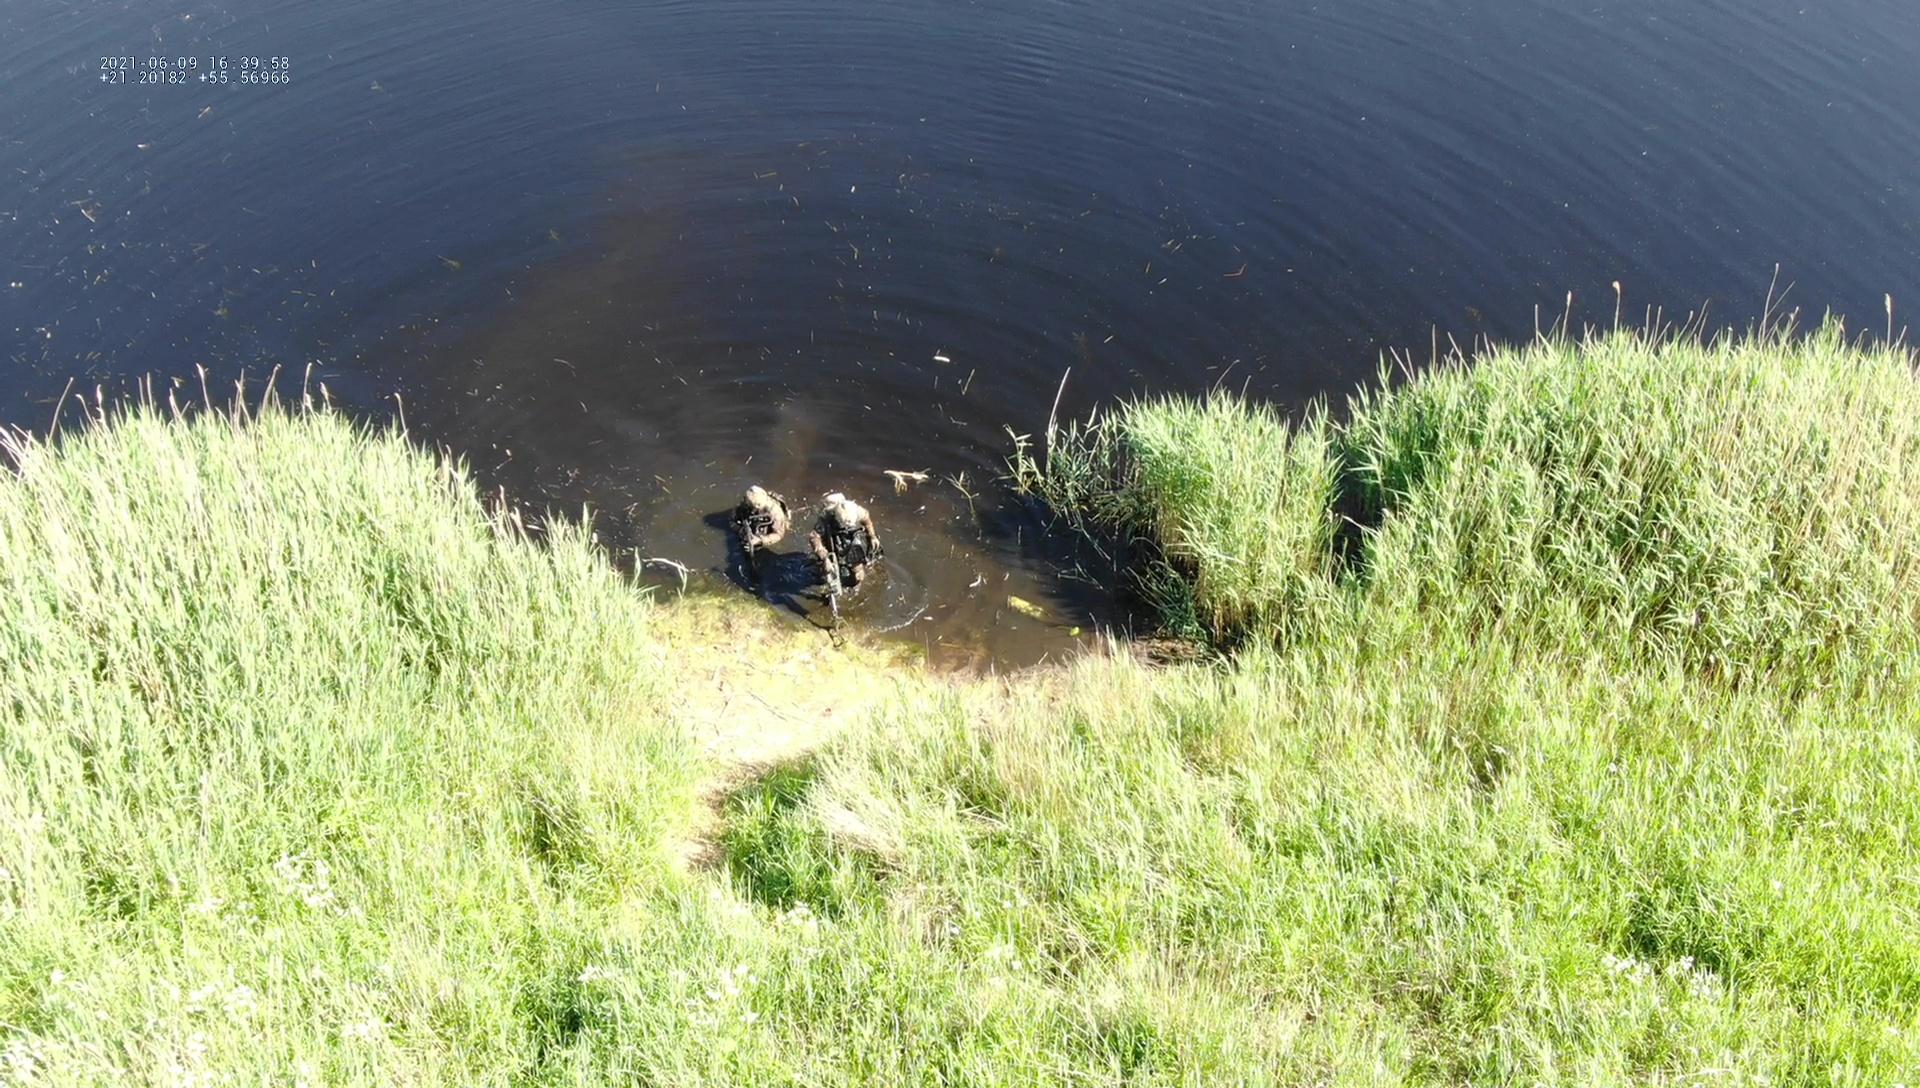Soldier: (808, 487, 882, 624), (727, 484, 790, 572)
